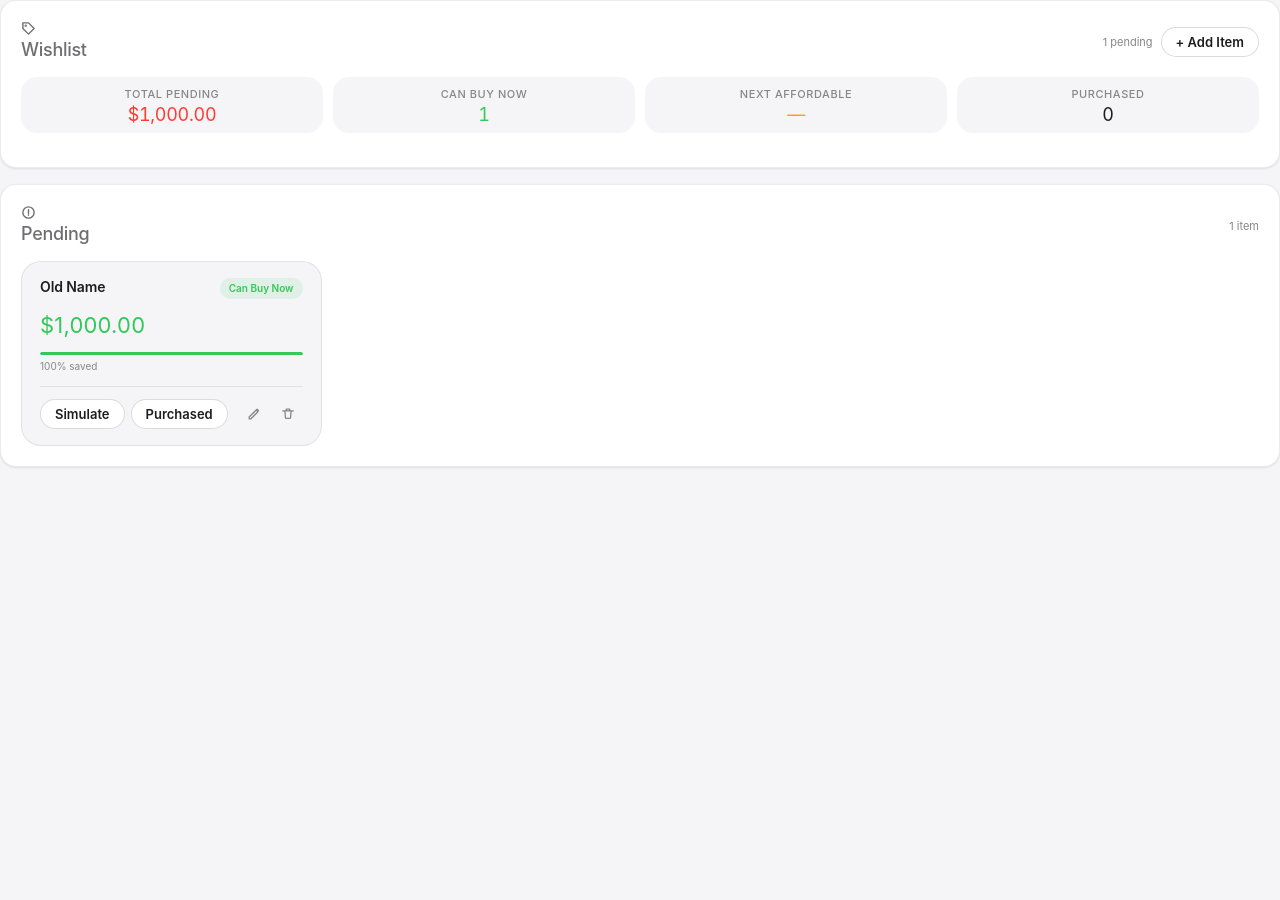
Scenario: Wishlist — edit item › opens edit modal and updates item
Click the button named "Edit item" at [254, 414], box x1=240 y1=399 x2=268 y2=429
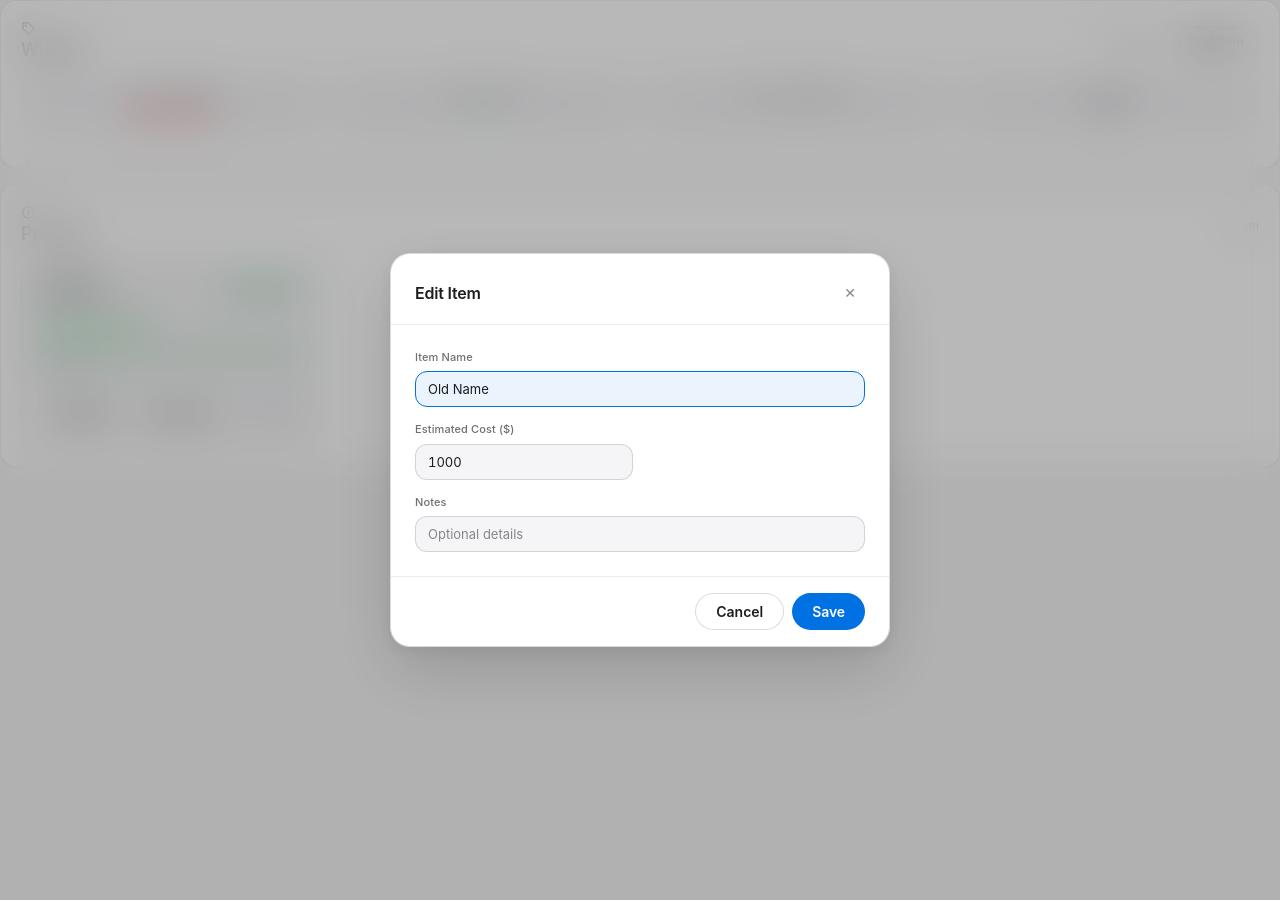
Expected: the heading "Edit Item" is shown, x1=415 y1=281 x2=481 y2=305
Replace the text in the field with placeholder "e.g. New TV" with "Updated Name" at [640, 389], box x1=415 y1=371 x2=865 y2=407
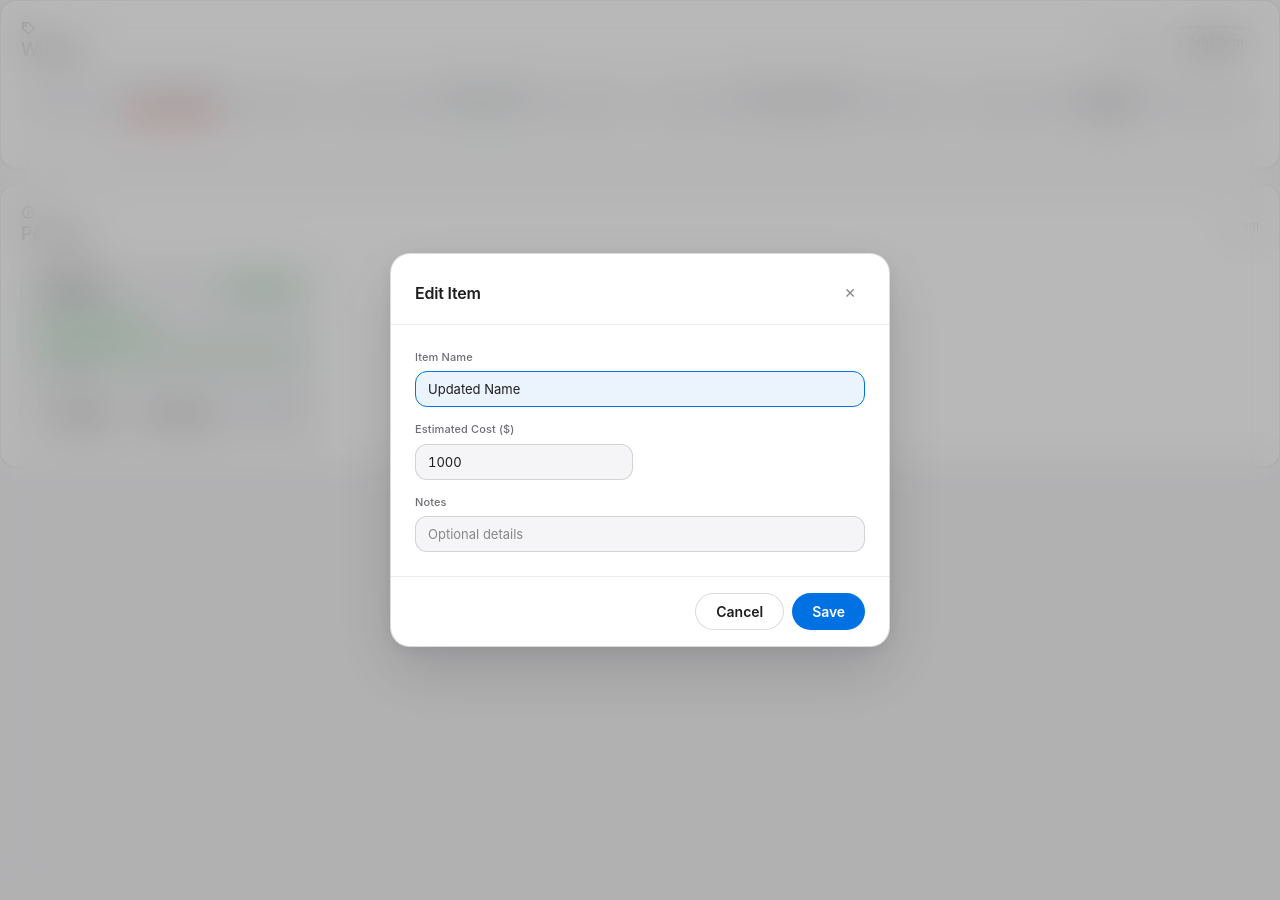
Click the button "Save" at [829, 612], box x1=792 y1=593 x2=865 y2=630
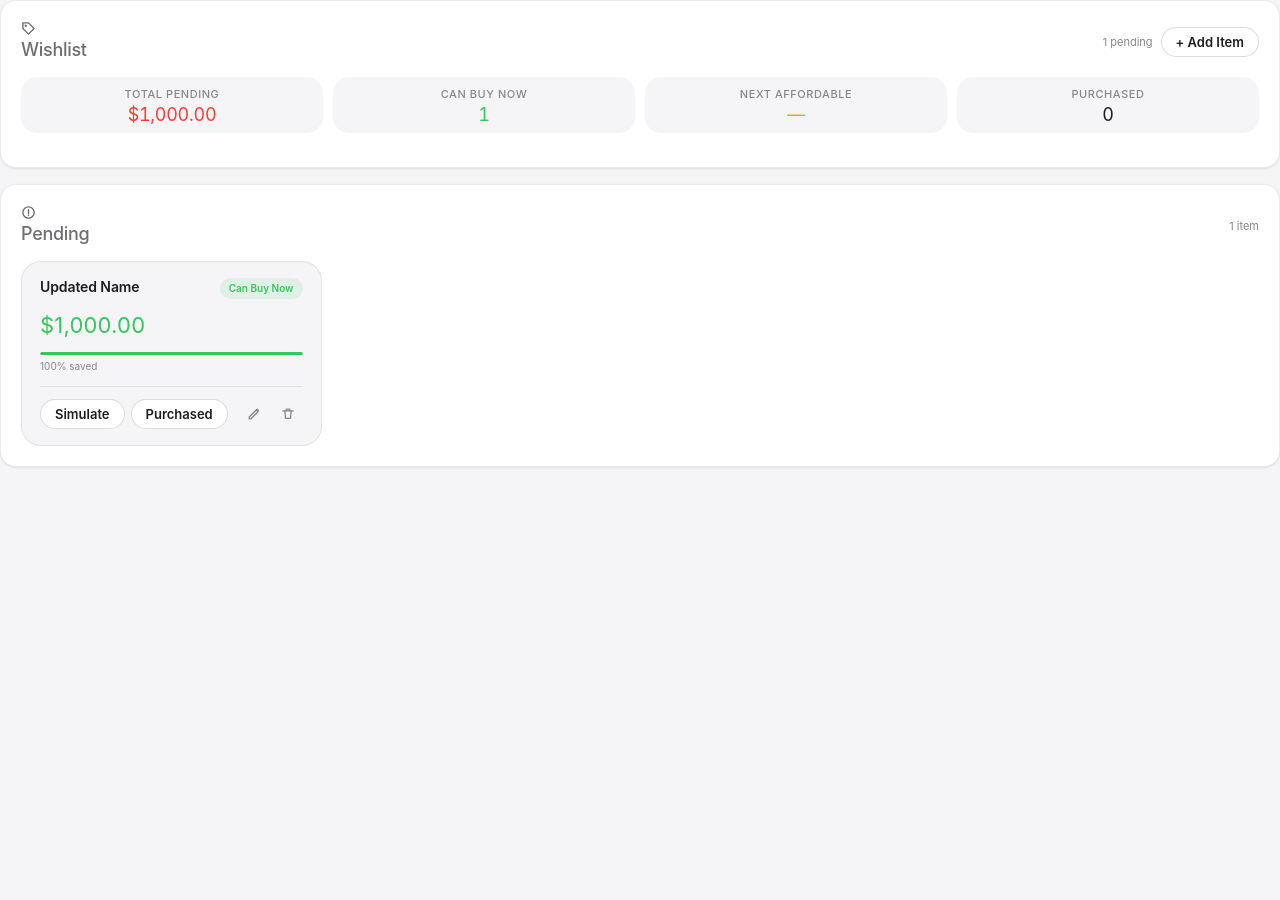
Expected: the text "Updated Name" is shown, x1=40 y1=278 x2=140 y2=296
